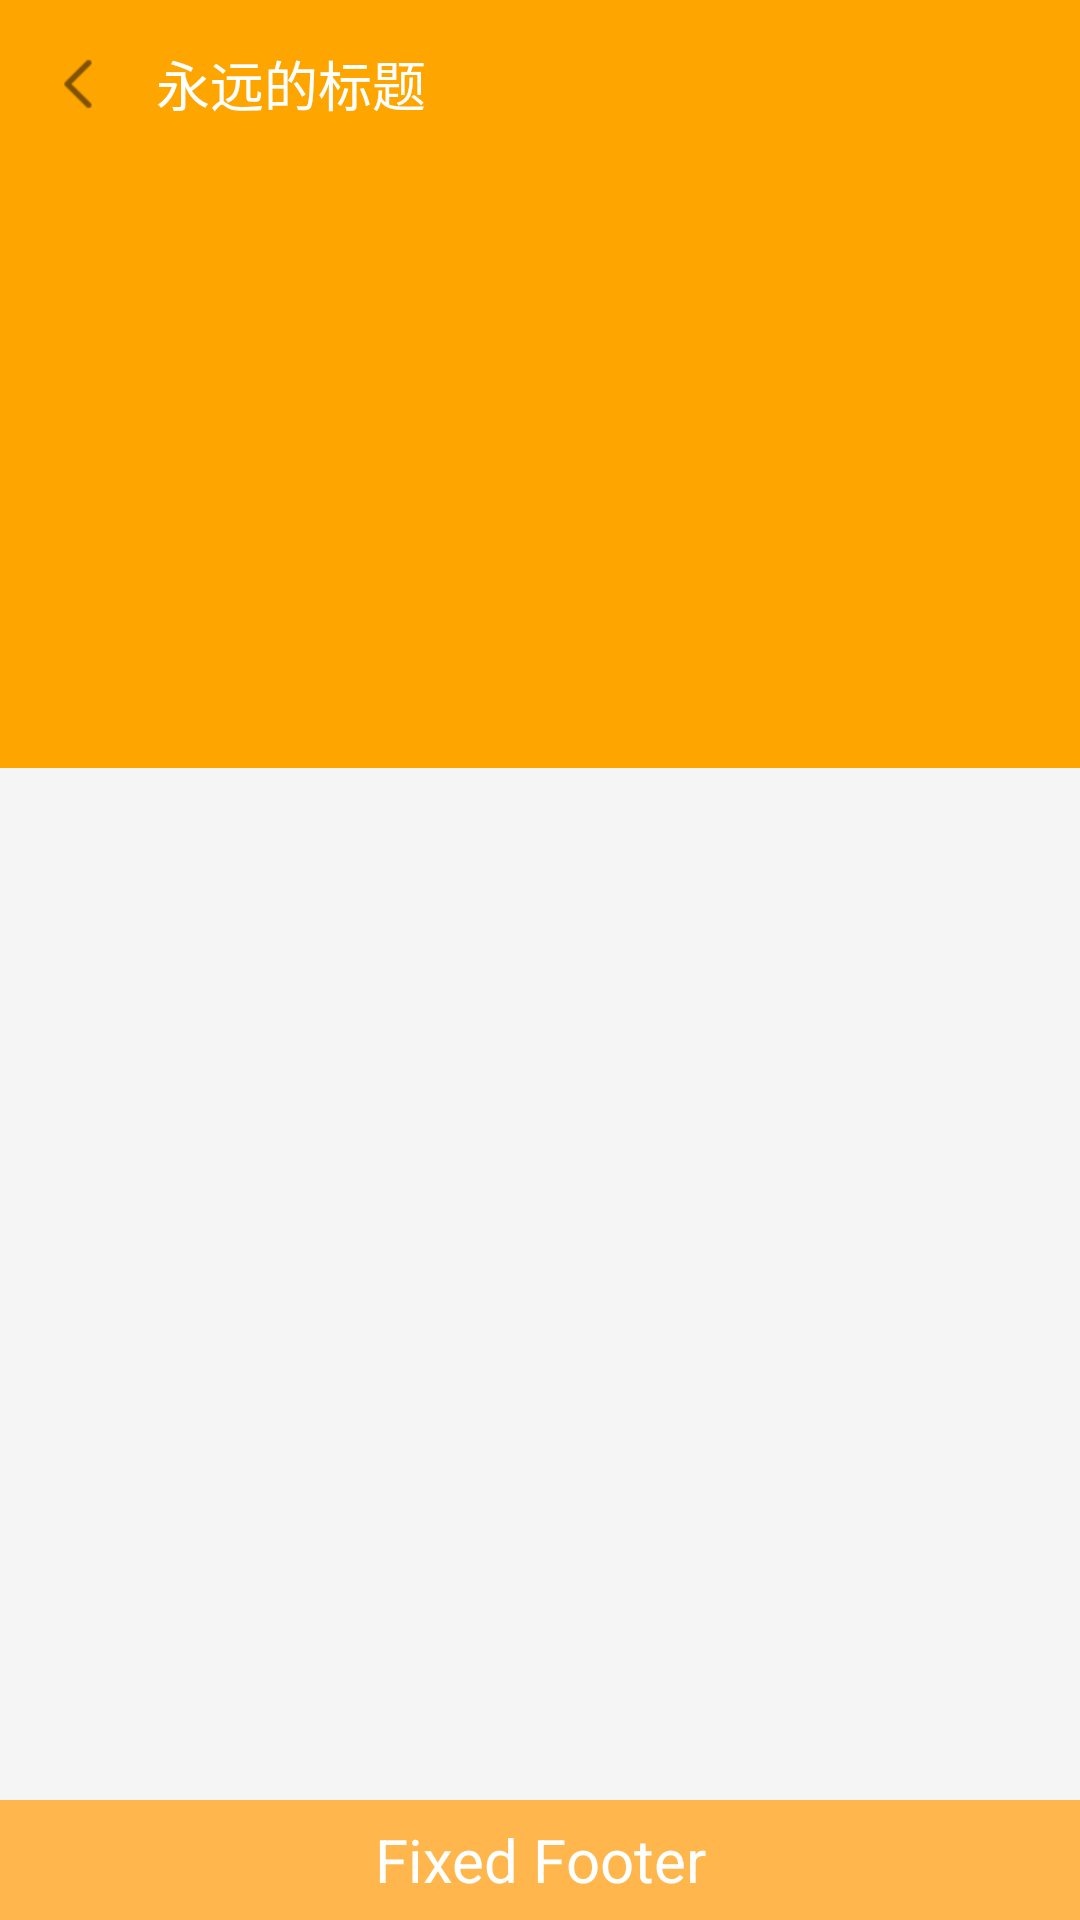

Icon click points for this 1080w x 1920h phone screenshot, format point (x, y):
top back: point (78, 84)
